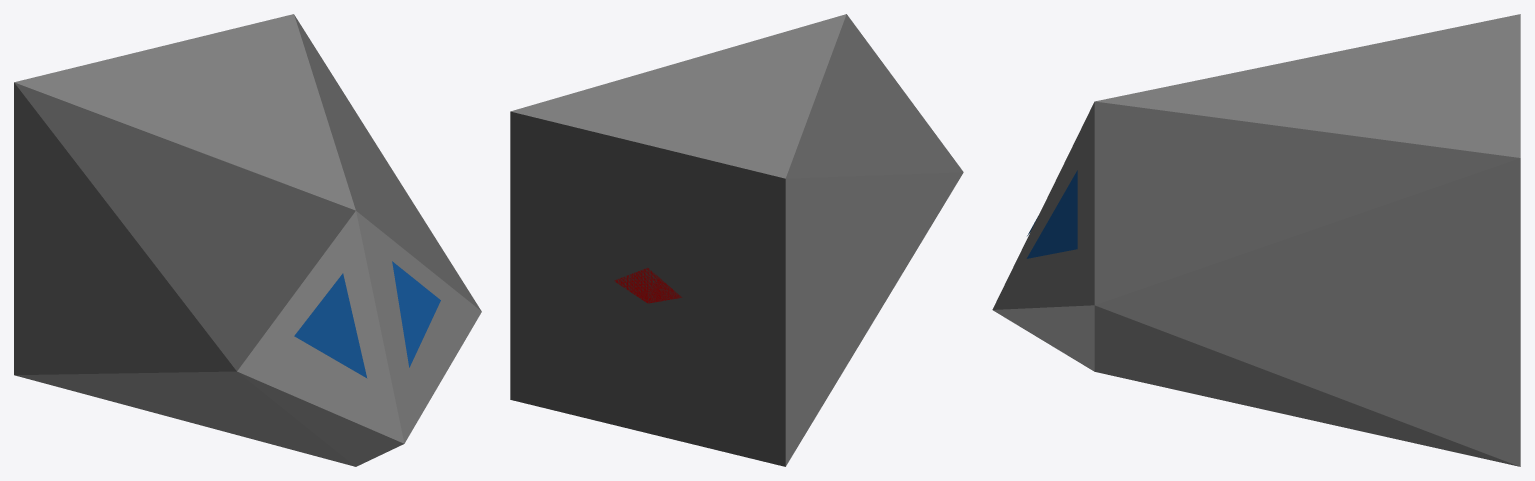
The model's file is shuttle.obj.
3 renders of one model, left to right at view 1: azimuth 30°, elevation 25°; view 2: azimuth 150°, elevation 25°; view 3: azimuth 270°, elevation 25°, orthographic. The views are drawn at different scales.
Bounding box in the file's own units: 40 × 40 × 62.
